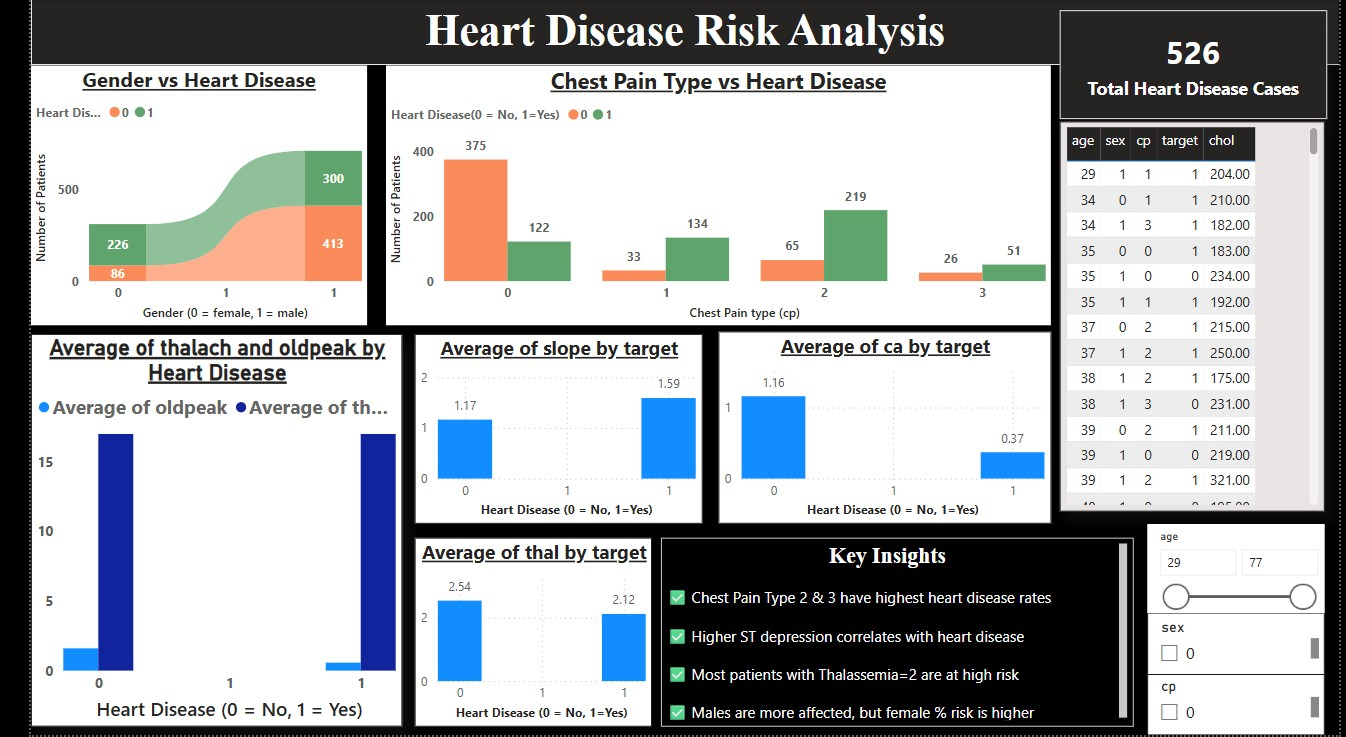

What the dashboard file says about the page in this screenshot:
{"tool":"powerbi","page":{"name":"Heart Disease Risk Analysis","canvas":[1280,720],"ordinal":0},"visuals":[{"type":"textbox","box":[0,0,1280.3,64.8],"z":0},{"type":"clusteredColumnChart","title":"Chest Pain Type vs Heart Disease","fields":{"Category":["heart_disease_clean.cp"],"Series":["heart_disease_clean.target"],"Y":["CountNonNull(heart_disease_clean.target)"]},"box":[347.3,64.8,650.5,254.3],"z":1000},{"type":"columnChart","title":"Gender vs Heart Disease","fields":{"Category":["heart_disease_clean.sex"],"Series":["heart_disease_clean.target"],"Y":["CountNonNull(heart_disease_clean.target)"]},"box":[0,64.8,328.9,254.3],"z":2000},{"type":"clusteredColumnChart","title":"Average of thalach and oldpeak by Heart Disease","fields":{"Y":["Avg(heart_disease_clean.oldpeak)","Avg(heart_disease_clean.thalach)"],"Category":["heart_disease_clean.target"]},"box":[0,327.7,363.2,384],"z":3000},{"type":"card","fields":{"Values":["Sum(heart_disease_clean.target)"]},"box":[1006.4,11,261.7,106.4],"z":4000},{"type":"tableEx","fields":{"Values":["heart_disease_clean.age","heart_disease_clean.sex","heart_disease_clean.cp","heart_disease_clean.target","Avg(heart_disease_clean.chol)"]},"box":[1006.4,119.8,259.2,381.5],"z":5000},{"type":"clusteredColumnChart","fields":{"Category":["heart_disease_clean.target"],"Y":["Avg(heart_disease_clean.ca)"]},"box":[672.6,325.3,325.3,188.3],"z":6000},{"type":"clusteredColumnChart","fields":{"Category":["heart_disease_clean.target"],"Y":["Avg(heart_disease_clean.thal)"]},"box":[375.4,527,232.3,184.6],"z":7000},{"type":"clusteredColumnChart","fields":{"Y":["Avg(heart_disease_clean.slope)"],"Category":["heart_disease_clean.target"]},"box":[375.4,327.7,281.3,185.9],"z":8000},{"type":"slicer","fields":{"Values":["heart_disease_clean.cp"]},"box":[1092,657.9,173.6,62.4],"z":9000},{"type":"slicer","fields":{"Values":["heart_disease_clean.sex"]},"box":[1092,600.4,173.6,61.1],"z":10000},{"type":"slicer","fields":{"Values":["heart_disease_clean.age"]},"box":[1092,513.6,173.6,86.8],"z":11000},{"type":"textbox","box":[616.3,527,462.2,184.6],"z":12000}]}

Visuals, with their boxes in screenshot pixels (x1, y1, x2, y2), scaled from the page's 1280x720 canvas onto the 1346x737 screenshot:
textbox: detection(0, 0, 1345, 66)
"Chest Pain Type vs Heart Disease" clusteredColumnChart: detection(365, 66, 1049, 327)
"Gender vs Heart Disease" columnChart: detection(0, 66, 346, 327)
"Average of thalach and oldpeak by Heart Disease" clusteredColumnChart: detection(0, 335, 382, 729)
card - Sum(heart_disease_clean.target): detection(1058, 11, 1333, 120)
tableEx - heart_disease_clean.age x heart_disease_clean.sex: detection(1058, 123, 1331, 513)
clusteredColumnChart - heart_disease_clean.target x Avg(heart_disease_clean.ca): detection(707, 333, 1049, 526)
clusteredColumnChart - heart_disease_clean.target x Avg(heart_disease_clean.thal): detection(395, 539, 639, 728)
clusteredColumnChart - Avg(heart_disease_clean.slope) x heart_disease_clean.target: detection(395, 335, 691, 526)
slicer - heart_disease_clean.cp: detection(1148, 673, 1331, 736)
slicer - heart_disease_clean.sex: detection(1148, 615, 1331, 677)
slicer - heart_disease_clean.age: detection(1148, 526, 1331, 615)
textbox: detection(648, 539, 1134, 728)
